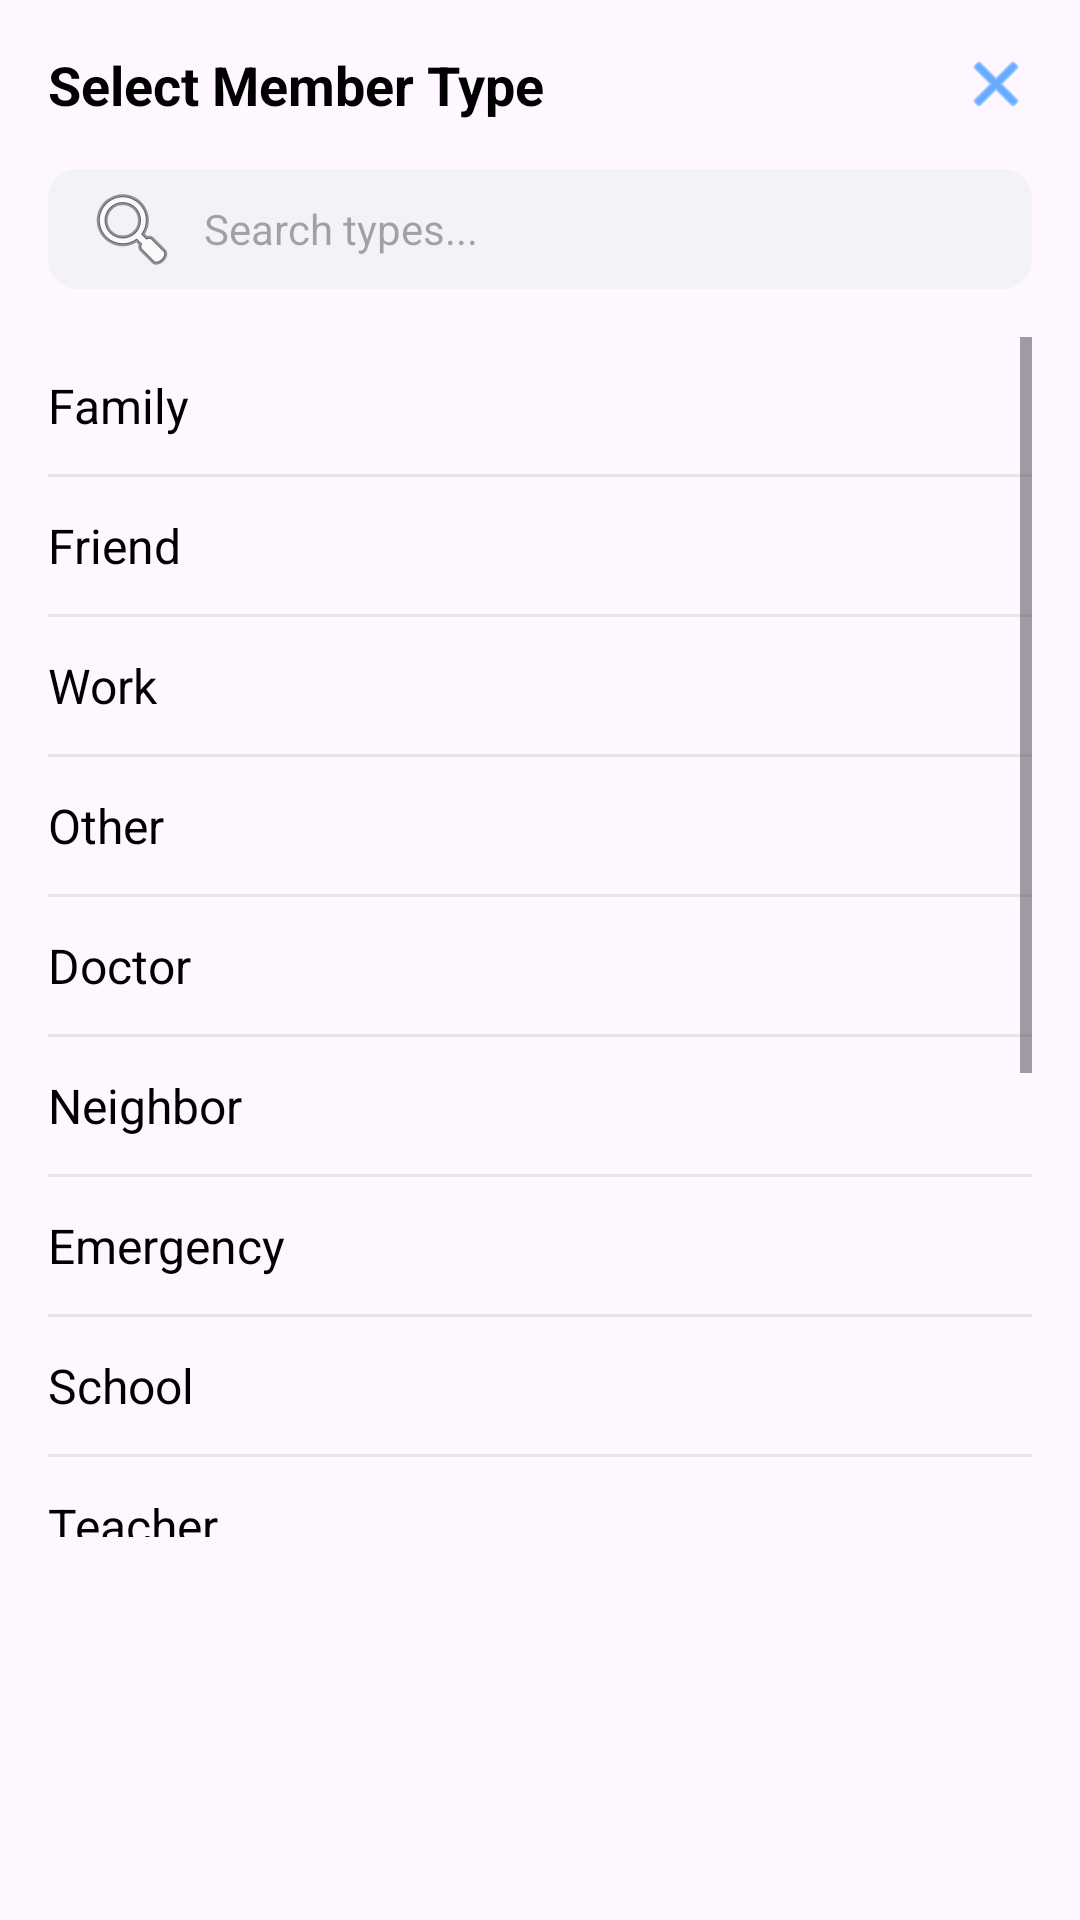

Where icons sit on this 1080w x 1920h app screen, as (x1, y1, x2, y2):
close clear cancel: (973, 61, 1019, 107)
